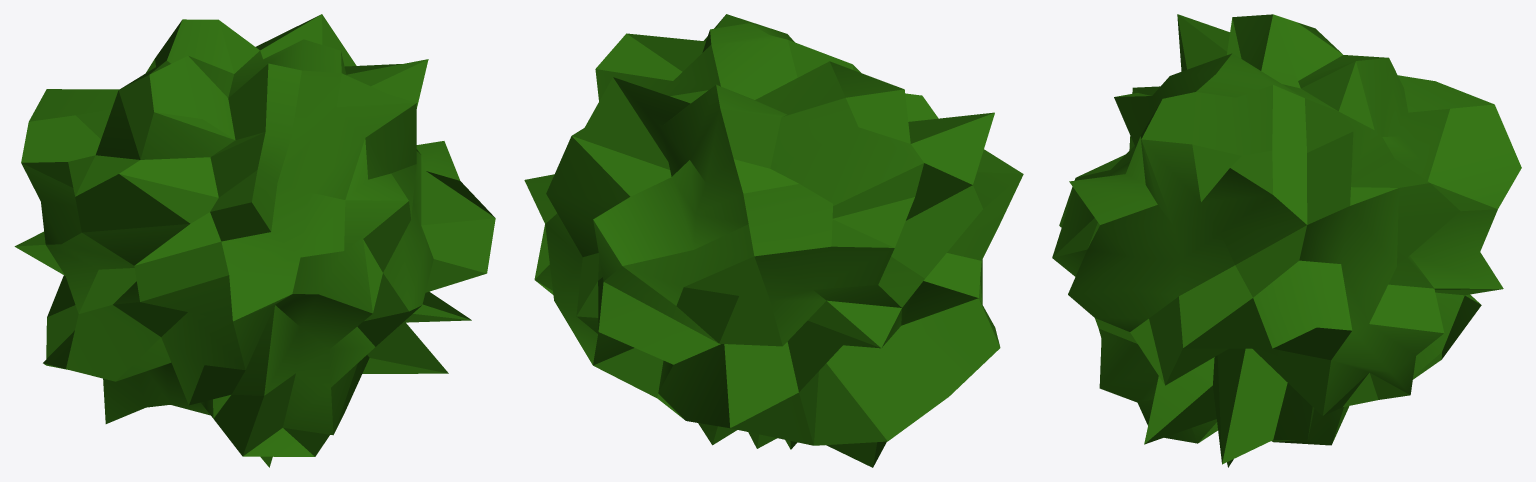
The model's file is 1Bush.fbx.
The picture shows the model from 3 angles, left to right: view 1: azimuth 30°, elevation 25°; view 2: azimuth 150°, elevation 25°; view 3: azimuth 270°, elevation 25°; orthographic projection. The views are drawn at different scales.
Parts seen in each view (by area): view 1: bush; view 2: bush; view 3: bush.
Part boxes in pixels (box(x1,y1,x2,y2)): bush: box(14, 14, 495, 467); bush: box(524, 14, 1023, 467); bush: box(1052, 14, 1521, 467).
Bounding box in the file's own units: 251 × 234 × 235.
